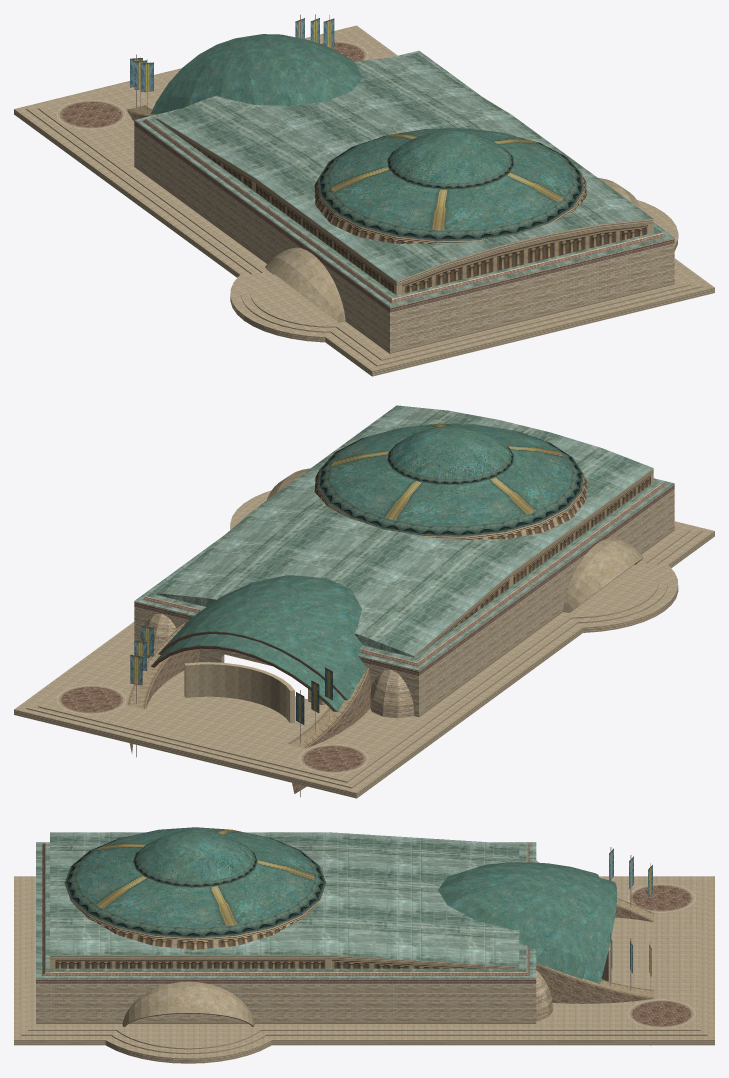
File: mun_nboo_guild_theater_s01_r0_mesh_l0.fbx
3 renders of one model, top to bottom at view 1: azimuth 30°, elevation 25°; view 2: azimuth 150°, elevation 25°; view 3: azimuth 270°, elevation 25°, orthographic. The views are drawn at different scales.
Parts seen in each view (by area): view 1: mesh_node; view 2: mesh_node; view 3: mesh_node.
Boxes of the visible parts, x1,y1,x2,y2 form: mesh_node: [14, 14, 714, 376]; mesh_node: [14, 405, 714, 798]; mesh_node: [14, 827, 714, 1063].
Bounding box in the file's own units: 82.18 × 32.27 × 121.
